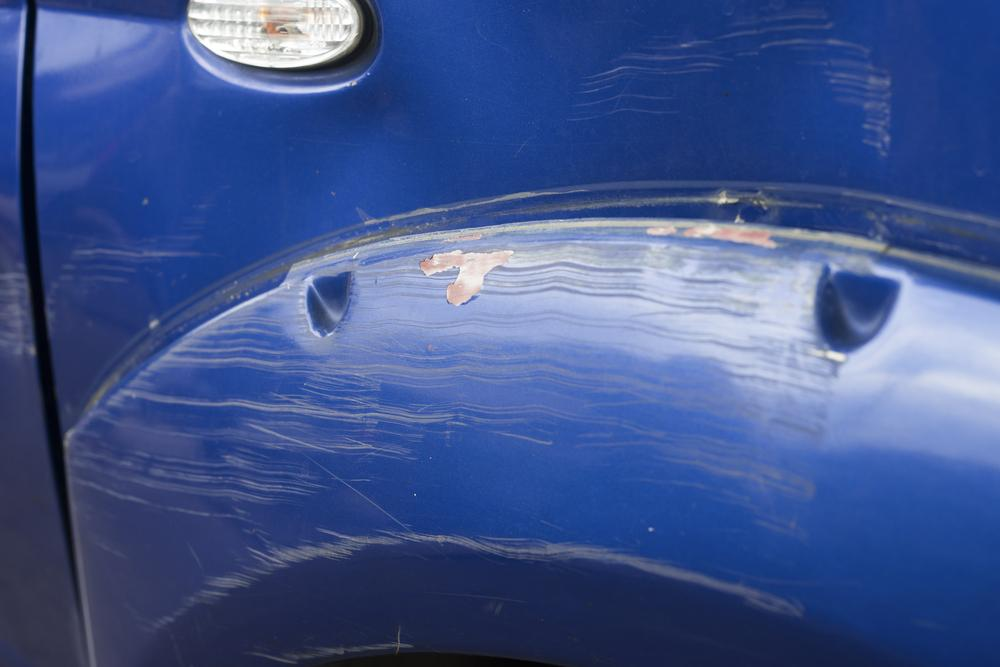scratch: (37, 0, 908, 667), (0, 255, 31, 360)
